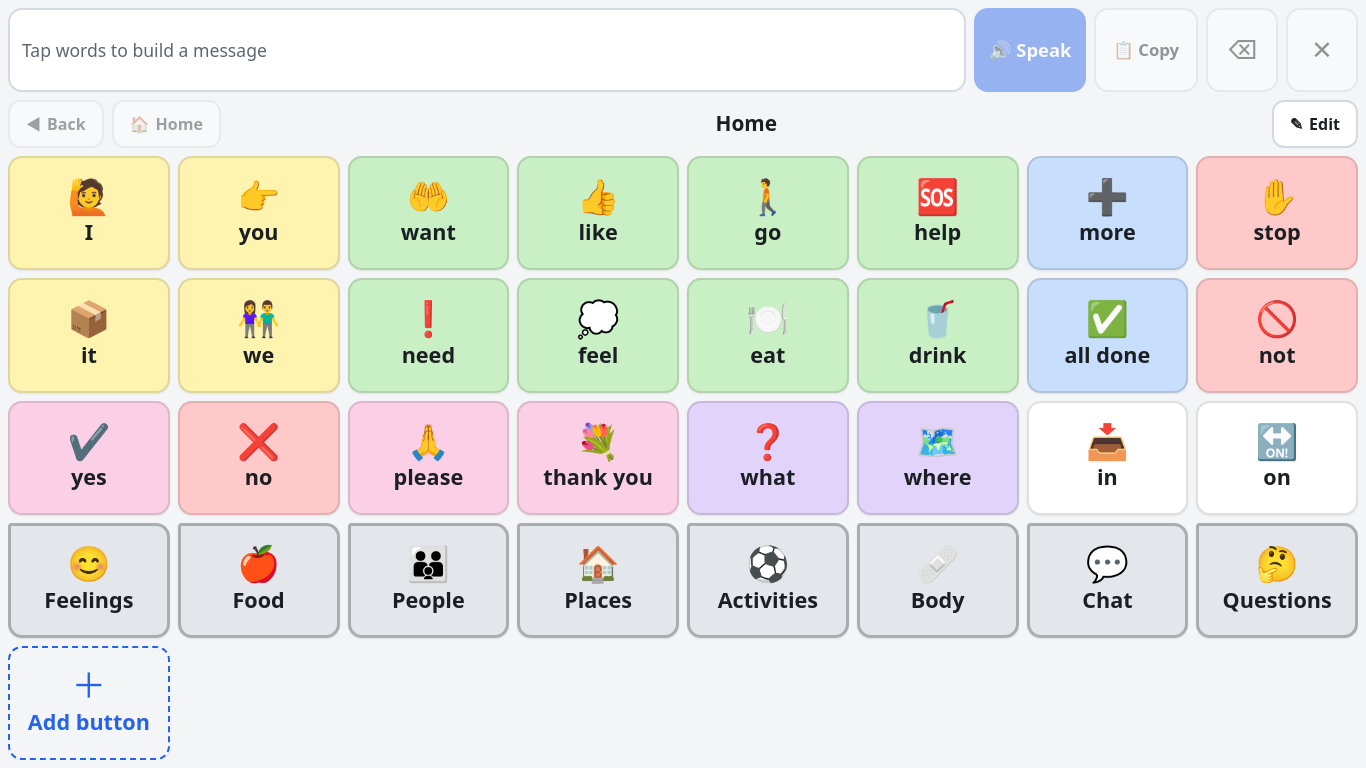
Test case: App › Add button on the Home board › asks the math question first, then adds the button to Home without entering edit mode
Click the button "＋ Add button". click: coordinates (89, 703)
box: x1=8 y1=646 x2=170 y2=760
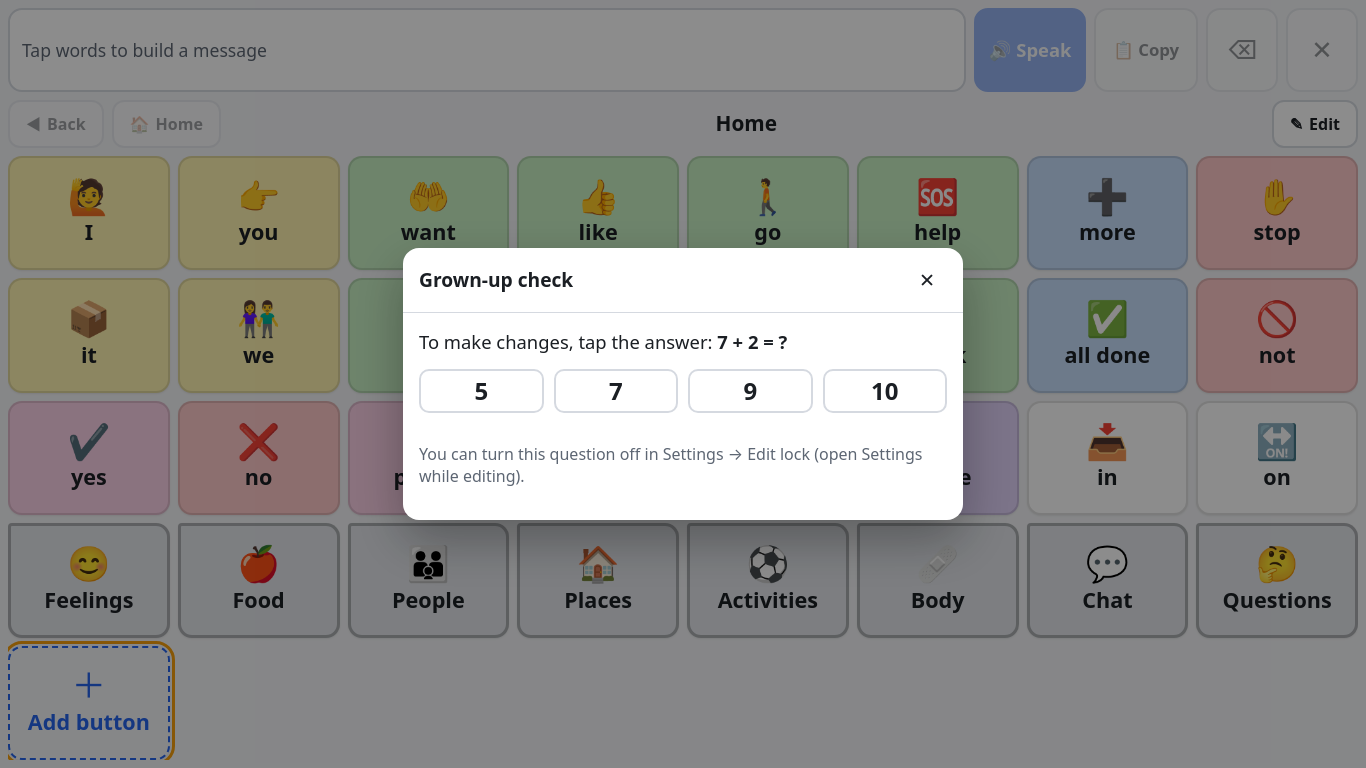
Click the button "5". click: coordinates (481, 391)
box: x1=419 y1=369 x2=544 y2=413
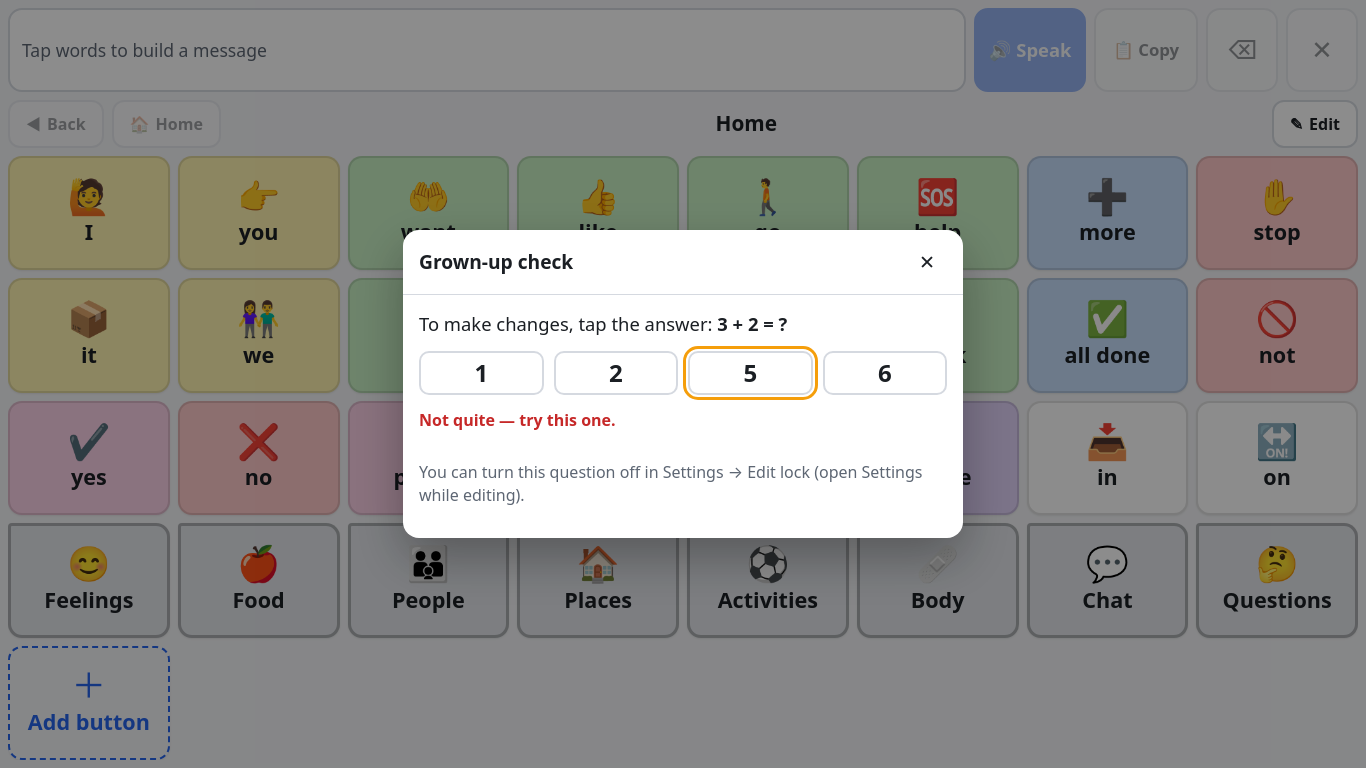
Click the button "5". click: coordinates (750, 373)
box: x1=688 y1=351 x2=812 y2=395
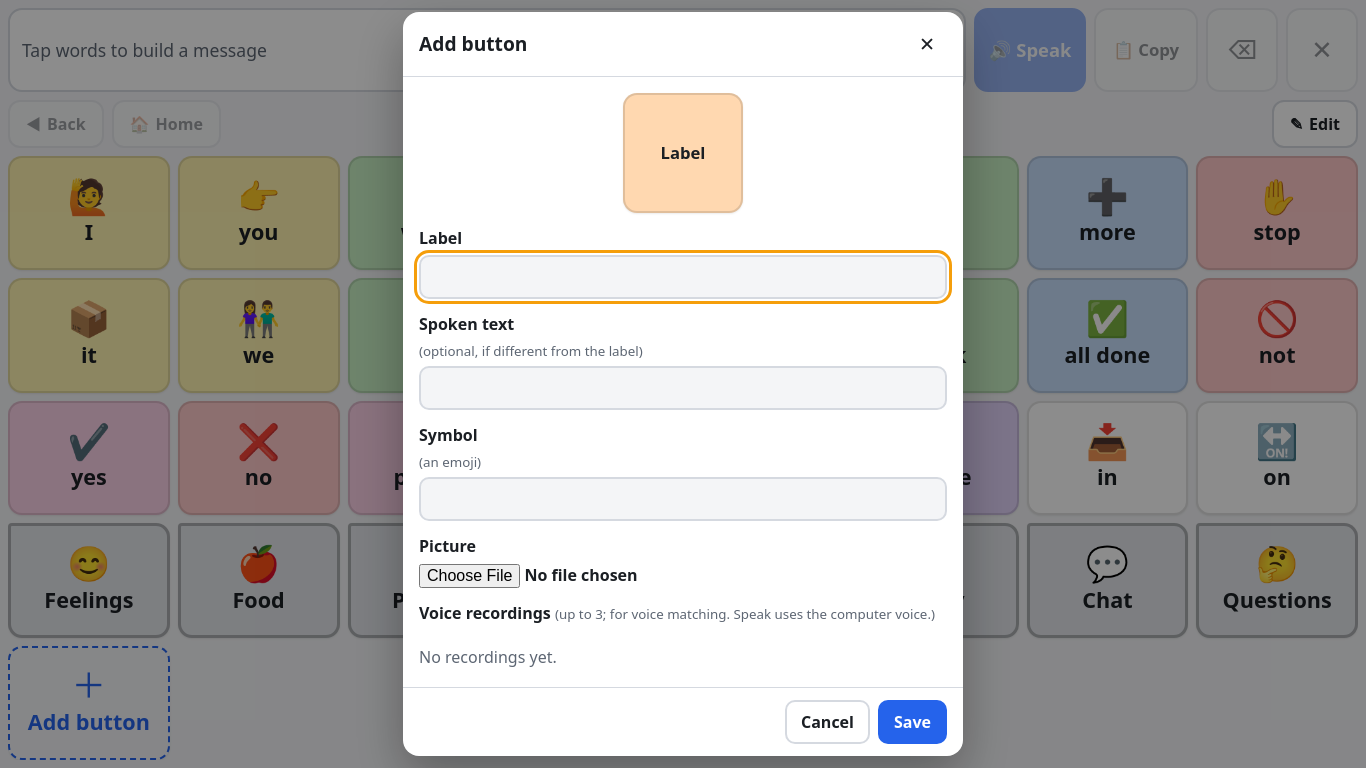
Type "pancakes" into the field labelled "Label". click: coordinates (683, 277)
box: x1=419 y1=255 x2=947 y2=299
Type "🥞" into the field labelled "Symbol (an emoji)". click: coordinates (683, 500)
box: x1=419 y1=478 x2=947 y2=522
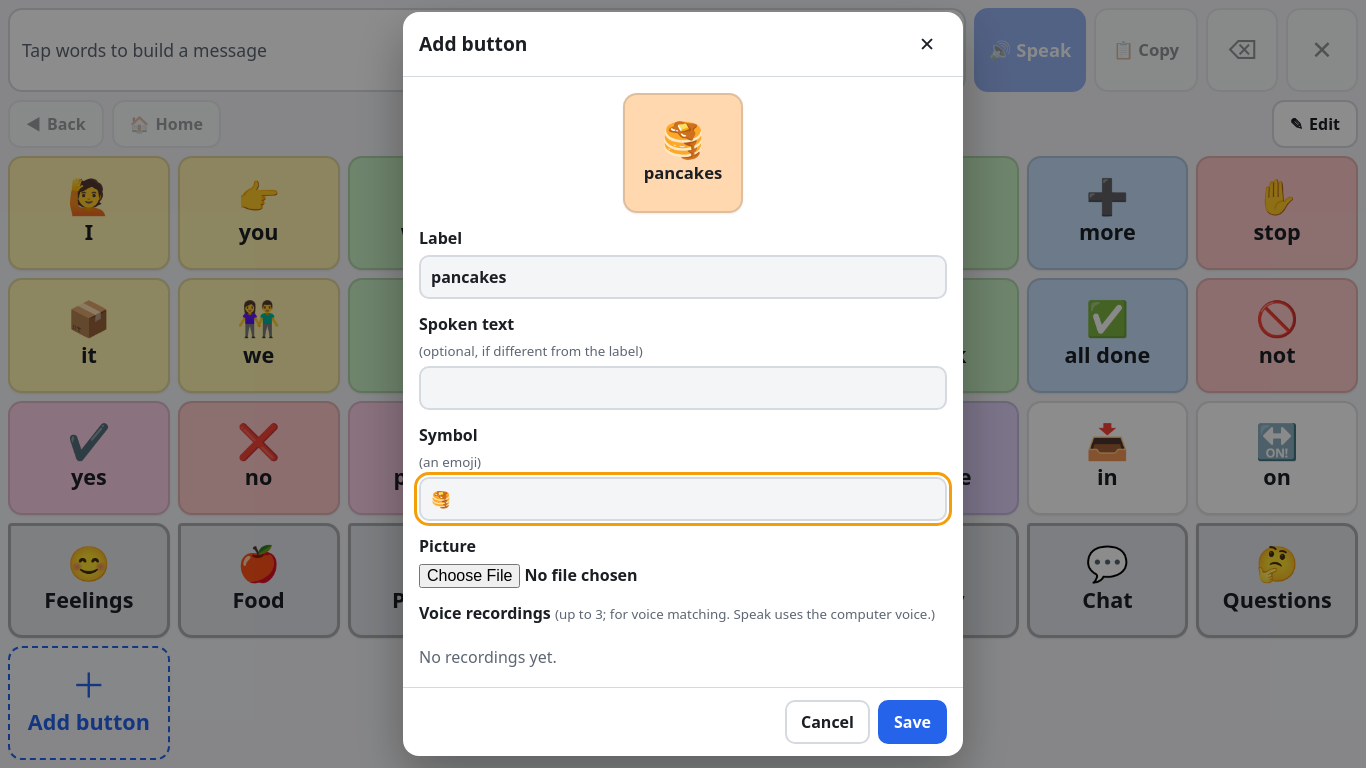
Click the button "Save". click: coordinates (912, 722)
box: x1=878 y1=700 x2=947 y2=744
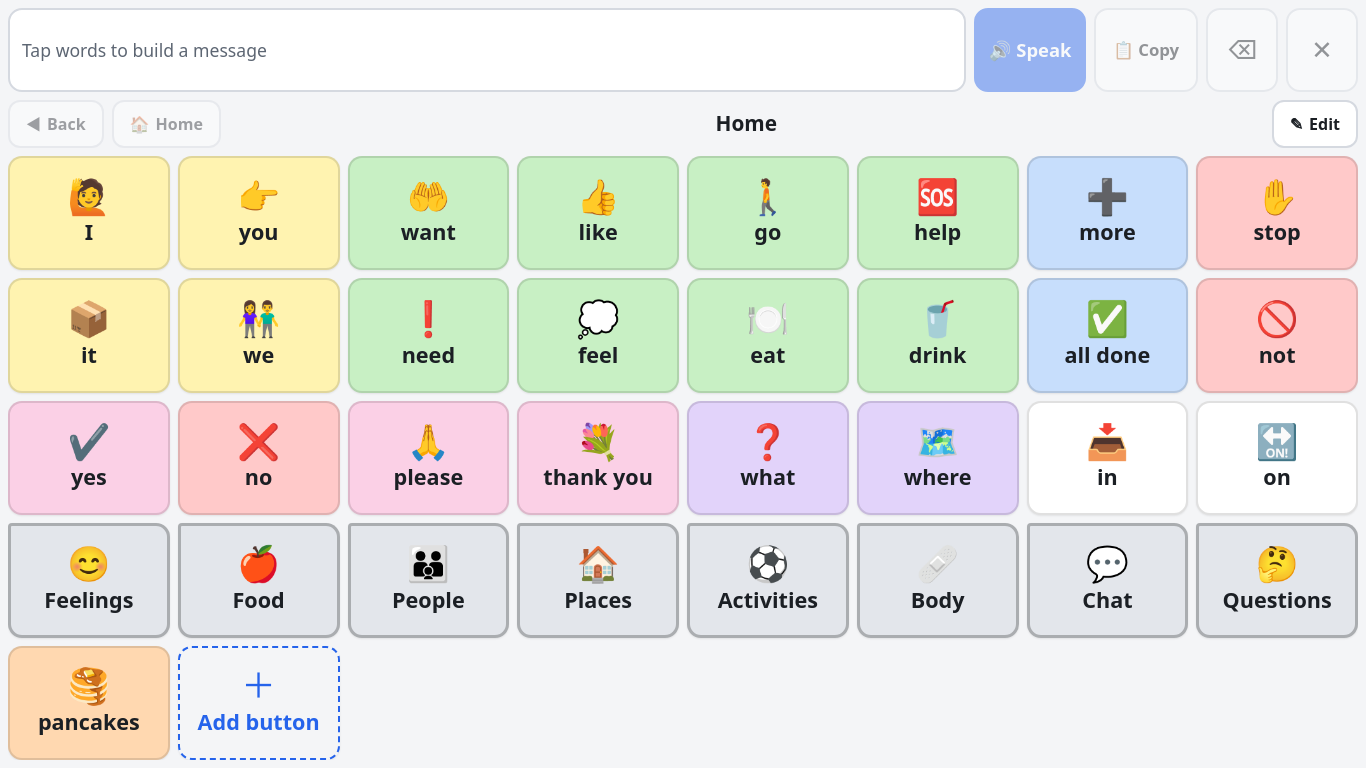
Click the button "🥞 pancakes". click: coordinates (89, 703)
box: x1=8 y1=646 x2=170 y2=760
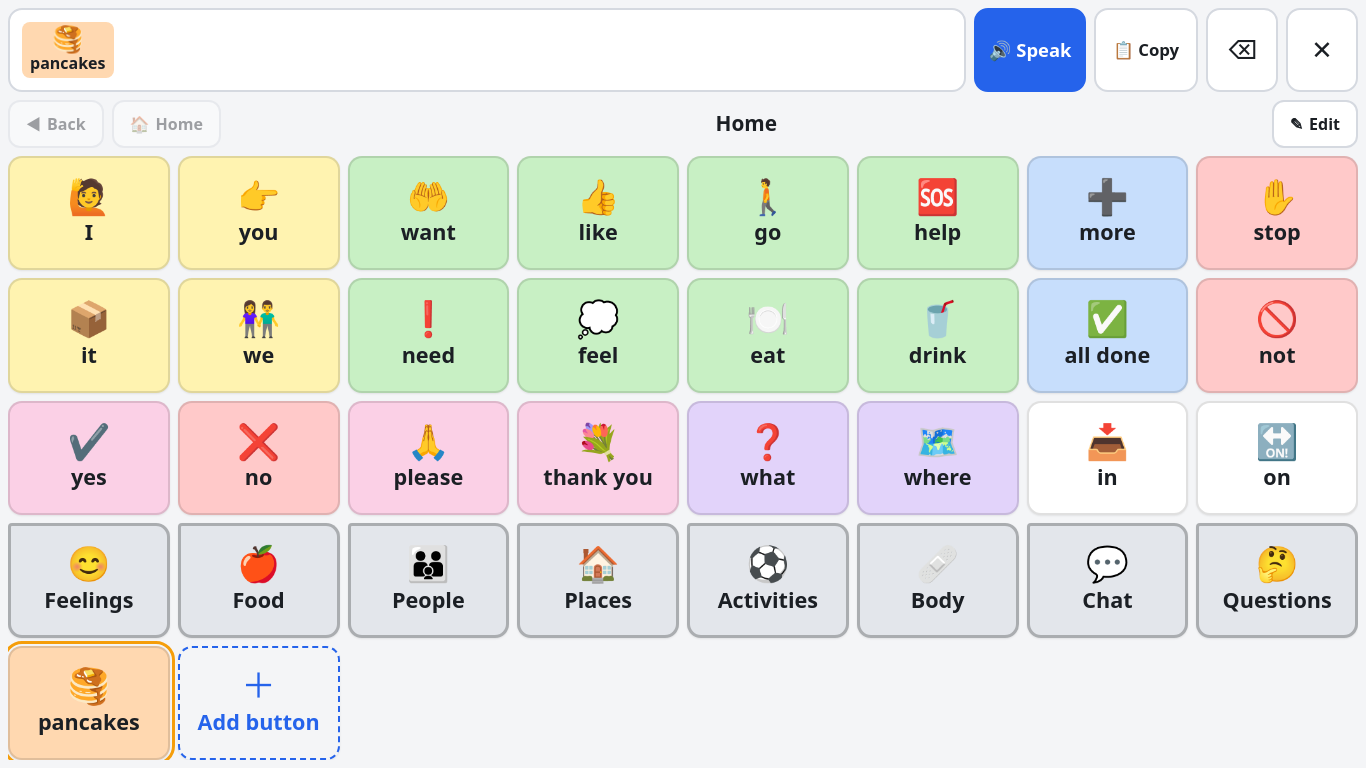
Result: the 1st text "pancakes" is shown at x1=30 y1=52 x2=106 y2=74
